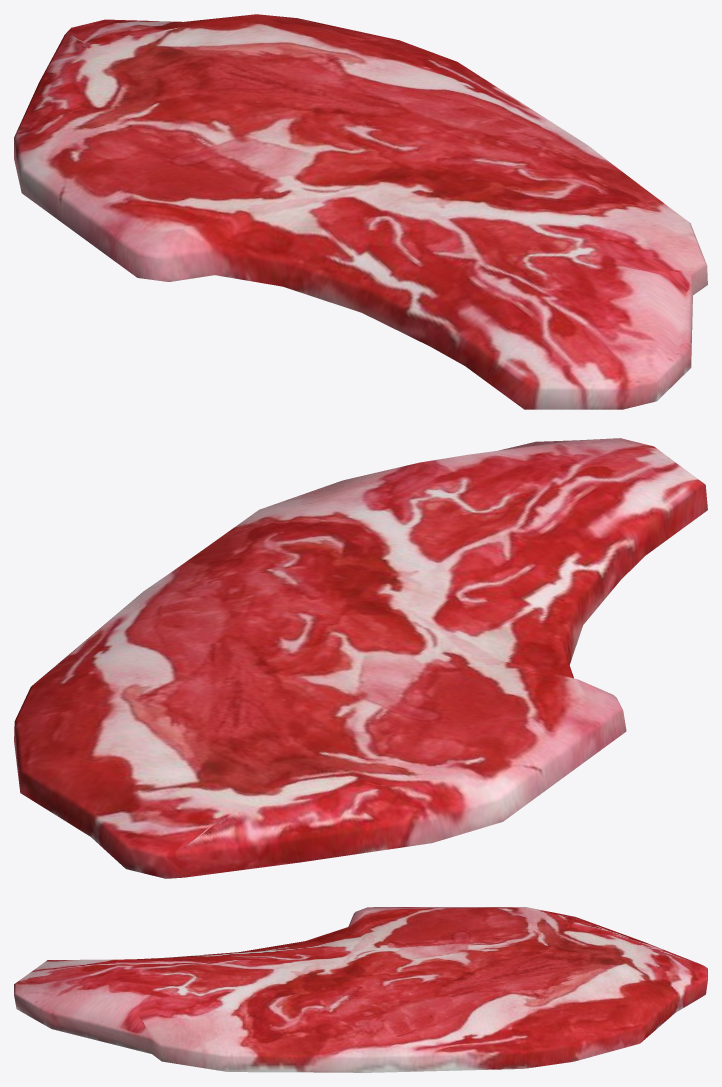
Rendered from meat.fbx.
3 views of the same model, one above another, from view 1: azimuth 30°, elevation 25°; view 2: azimuth 150°, elevation 25°; view 3: azimuth 270°, elevation 25° (orthographic). The views are drawn at different scales.
Visible parts, largest first — view 1: Plane001_Material #25_0; view 2: Plane001_Material #25_0; view 3: Plane001_Material #25_0.
Boxes of the visible parts, left/top/right/bottom form: Plane001_Material #25_0: left=14, top=14, right=707, bottom=409; Plane001_Material #25_0: left=14, top=438, right=707, bottom=878; Plane001_Material #25_0: left=14, top=907, right=707, bottom=1072.
Size of the model in its own units: 923 by 94.6 by 1788.
1 material, 1 textured.
